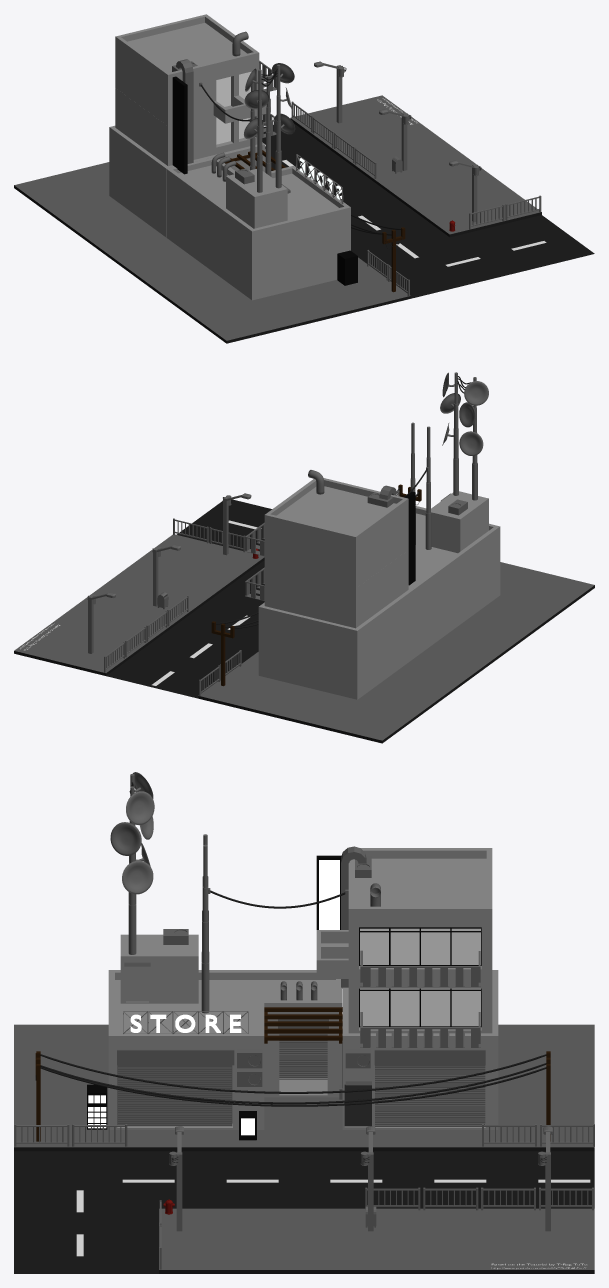
The model's file is Isometric_Street.gltf.
3 renders of one model, top to bottom at view 1: azimuth 30°, elevation 25°; view 2: azimuth 150°, elevation 25°; view 3: azimuth 270°, elevation 25°, orthographic. The views are drawn at different scales.
Visible parts, largest first — view 1: Street, Wohnhaus, Store.004, Antenne, Store.002, Parabolantenne, Zaun, Store.003, Zaun.002, Automat, Stange1, Stange2 (+7 smaller); view 2: Street, Wohnhaus, Store.004, Antenne, Parabolantenne, Zaun, Store.002, Zaun.002, Stange1, Stange3, Zaun.001; view 3: Street, Wohnhaus, Store.004, Tor, Tor.002, Antenne, Parabolantenne, Zaun, Überbau, Tor.001, Plane, Balkony.001 (+18 smaller).
Boxes of the visible parts, x1,y1,x2,y2 form: Street: (14,95,594,343); Wohnhaus: (109,14,270,237); Store.004: (166,157,350,300); Antenne: (226,169,287,228); Store.002: (172,76,187,174); Parabolantenne: (244,63,295,139); Zaun: (291,101,376,178); Store.003: (176,59,193,163); Zaun.002: (469,195,541,229); Automat: (337,250,357,285); Stange1: (275,64,281,188); Stange2: (257,69,262,192); Street: (14,499,594,743); Wohnhaus: (258,478,414,699); Store.004: (408,506,500,657); Antenne: (431,491,488,553); Parabolantenne: (440,372,488,455); Zaun: (104,595,188,672); Store.002: (404,491,415,585); Zaun.002: (173,518,245,552); Stange1: (453,372,458,495); Stange3: (425,426,431,549); Zaun.001: (199,650,241,696); Street: (14,1024,594,1273); Wohnhaus: (316,848,498,1129); Store.004: (108,970,342,1129); Tor: (117,1065,232,1126); Tor.002: (375,1065,485,1126); Antenne: (120,934,198,1003); Parabolantenne: (110,772,154,894); Zaun: (365,1187,593,1210); Überbau: (264,1007,342,1043); Tor.001: (279,1034,327,1079); Plane: (117,1049,234,1065); Balkony.001: (360,1012,480,1047).
Size of the model in its own units: 22.36 by 12.95 by 22.37.
